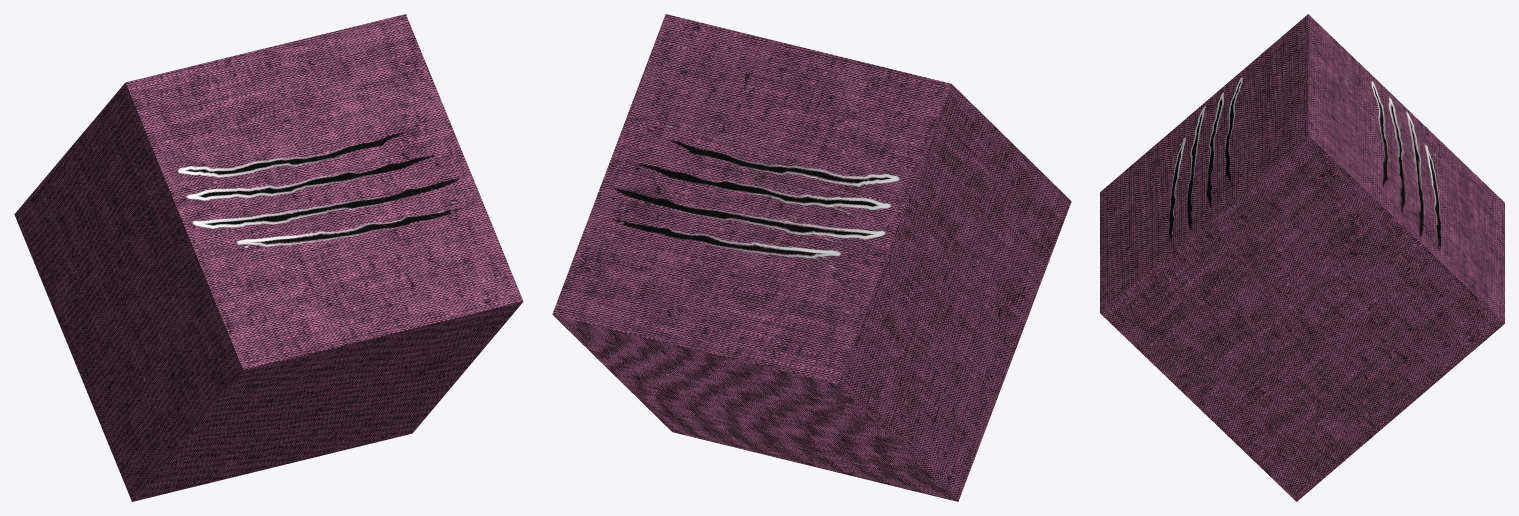
Rendered from torn_Cube_Two_Sides_2.fbx.
3 renders of one model, left to right at view 1: azimuth 30°, elevation 25°; view 2: azimuth 150°, elevation 25°; view 3: azimuth 270°, elevation 25°, orthographic. The views are drawn at different scales.
Parts seen in each view (by area): view 1: both_Torn_Cube_01; view 2: both_Torn_Cube_01; view 3: both_Torn_Cube_01.
Boxes of the visible parts, x1,y1,x2,y2 form: both_Torn_Cube_01: [14, 14, 523, 501]; both_Torn_Cube_01: [552, 14, 1071, 501]; both_Torn_Cube_01: [1100, 14, 1504, 501].
Size of the model in its own units: 1 by 1.41 by 1.41.
3 materials, 3 textured.
